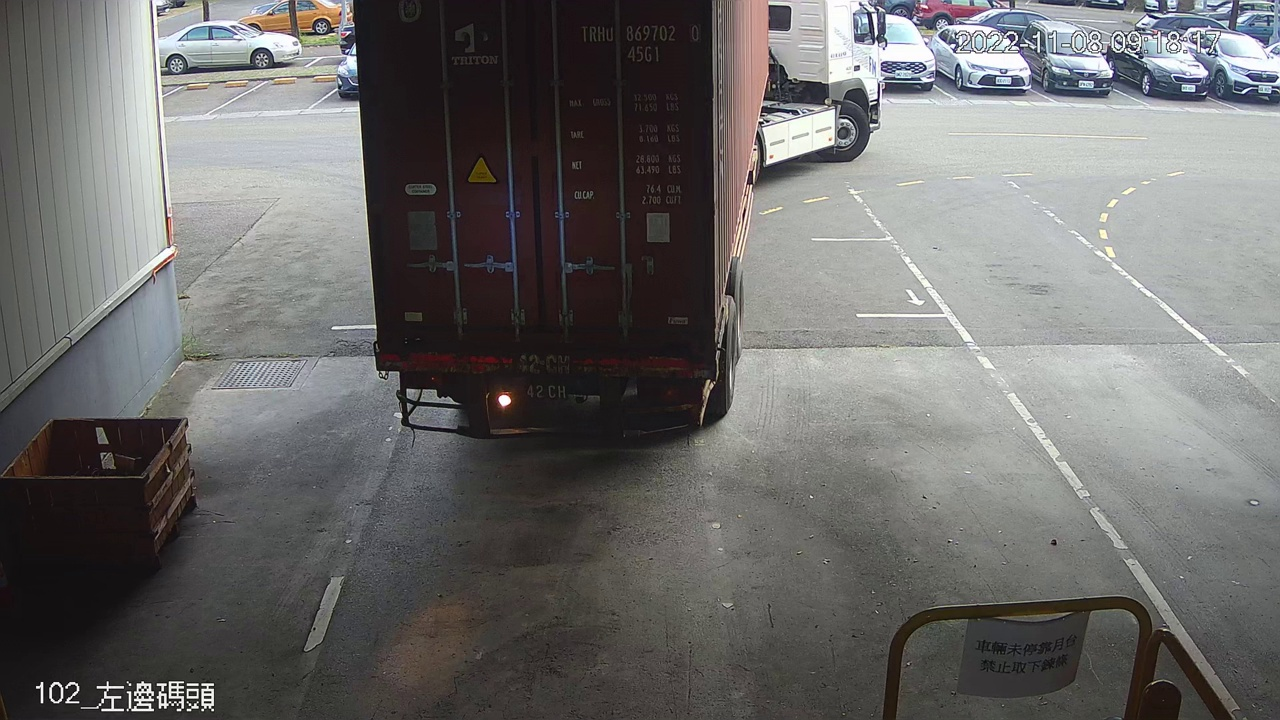container: (573, 15, 706, 70)
